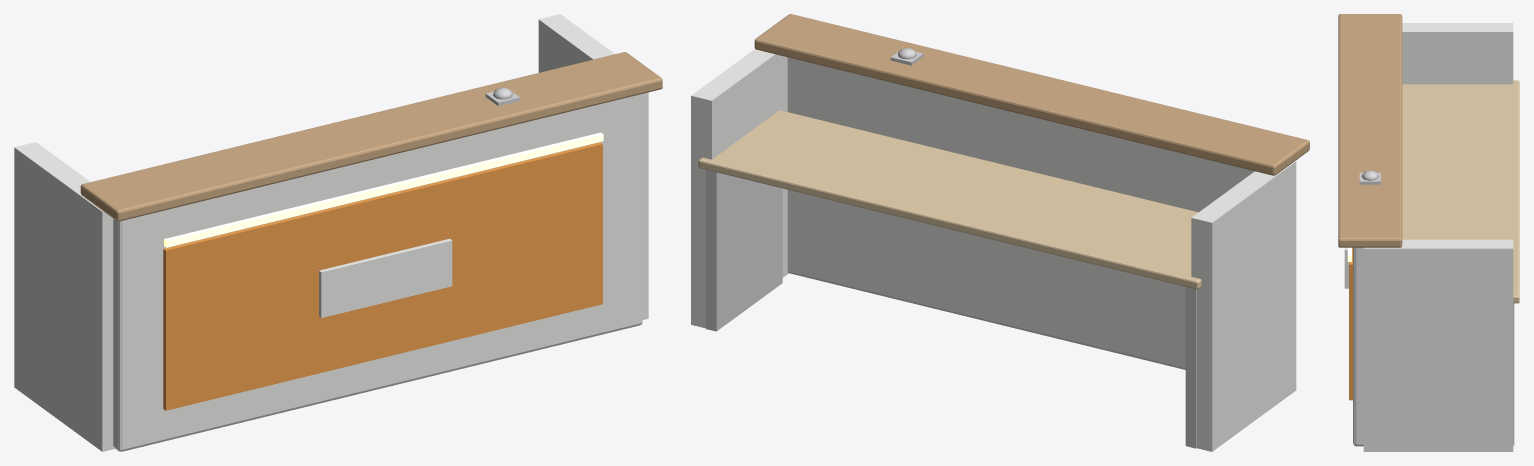
Rendered from reception_desk.glb.
3 renders of one model, left to right at view 1: azimuth 30°, elevation 25°; view 2: azimuth 150°, elevation 25°; view 3: azimuth 270°, elevation 25°, orthographic. The views are drawn at different scales.
Parts seen in each view (by area): view 1: reception_desk; view 2: reception_desk; view 3: reception_desk.
Boxes of the visible parts, left/top/right/bottom form: reception_desk: left=14, top=14, right=662, bottom=451; reception_desk: left=691, top=14, right=1309, bottom=451; reception_desk: left=1338, top=14, right=1519, bottom=451.
Size of the model in its own units: 2.5 by 1.14 by 0.85.
